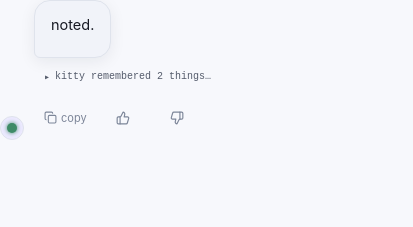
CR-06 memory forget with undo grace › a failed DELETE surfaces the error instead of pretending
Click the button "▸ kitty remembered 2 things…" at [128, 77], box 40,61 -> 215,93
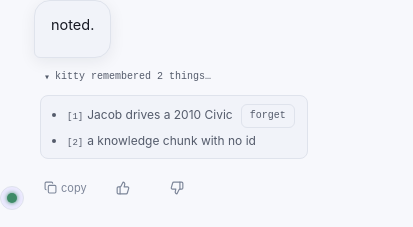
Click the button with aria-label "Forget memory: Jacob drives a 2010 Civic" at [268, 116], box 241,104 -> 295,128
Wait 5000 ms
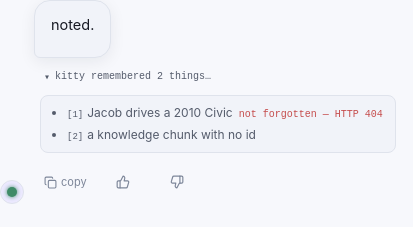
Check: the message "not forgotten — HTTP 404" is shown, box 233,109 -> 383,120
Check: the message shows "not forgotten", box 239,109 -> 335,120
